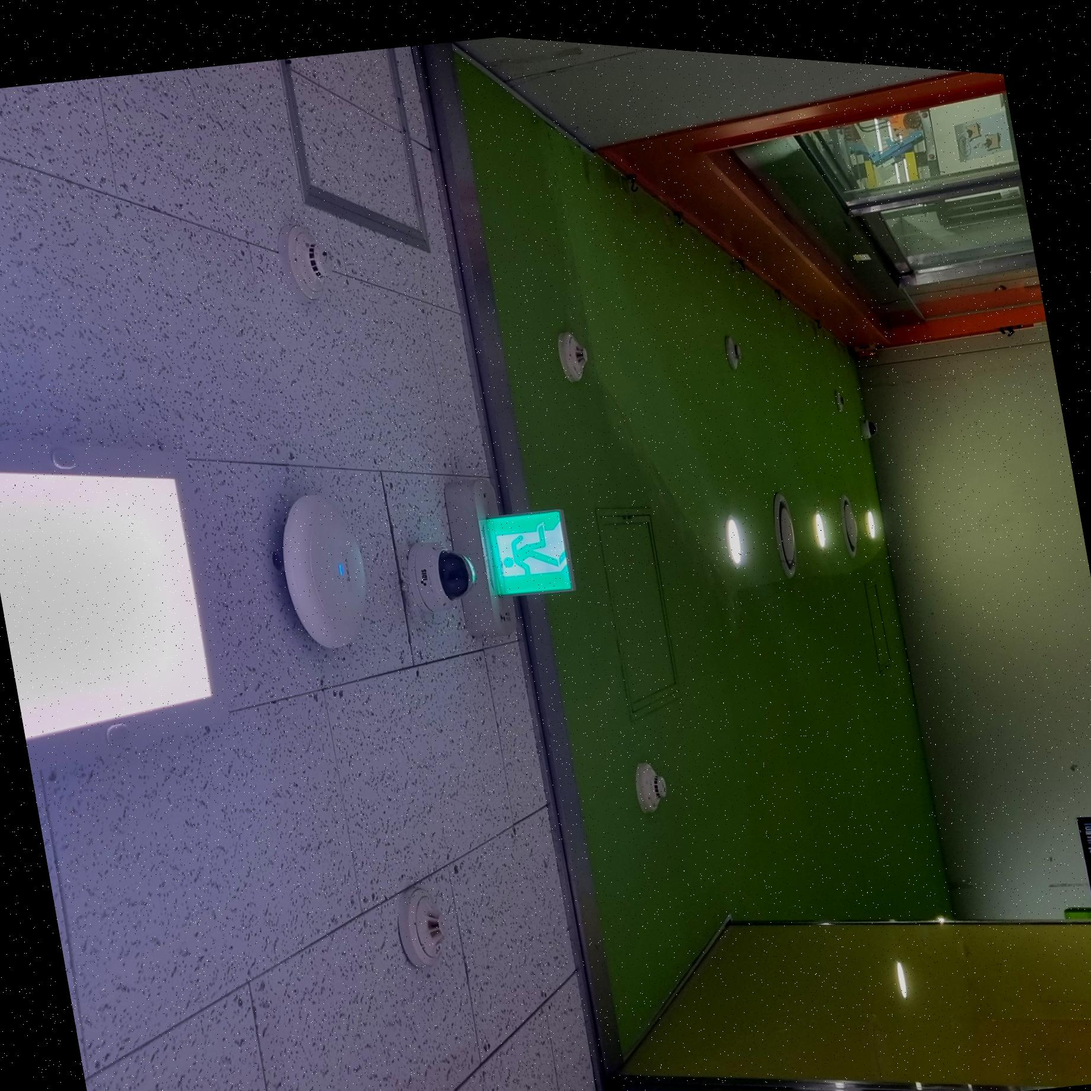emergency_exit: (479, 507, 575, 598)
